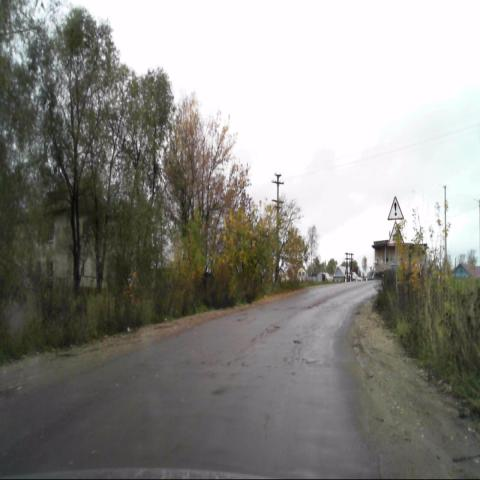1_1: (388, 221, 404, 246)
1_33: (387, 196, 403, 221)
